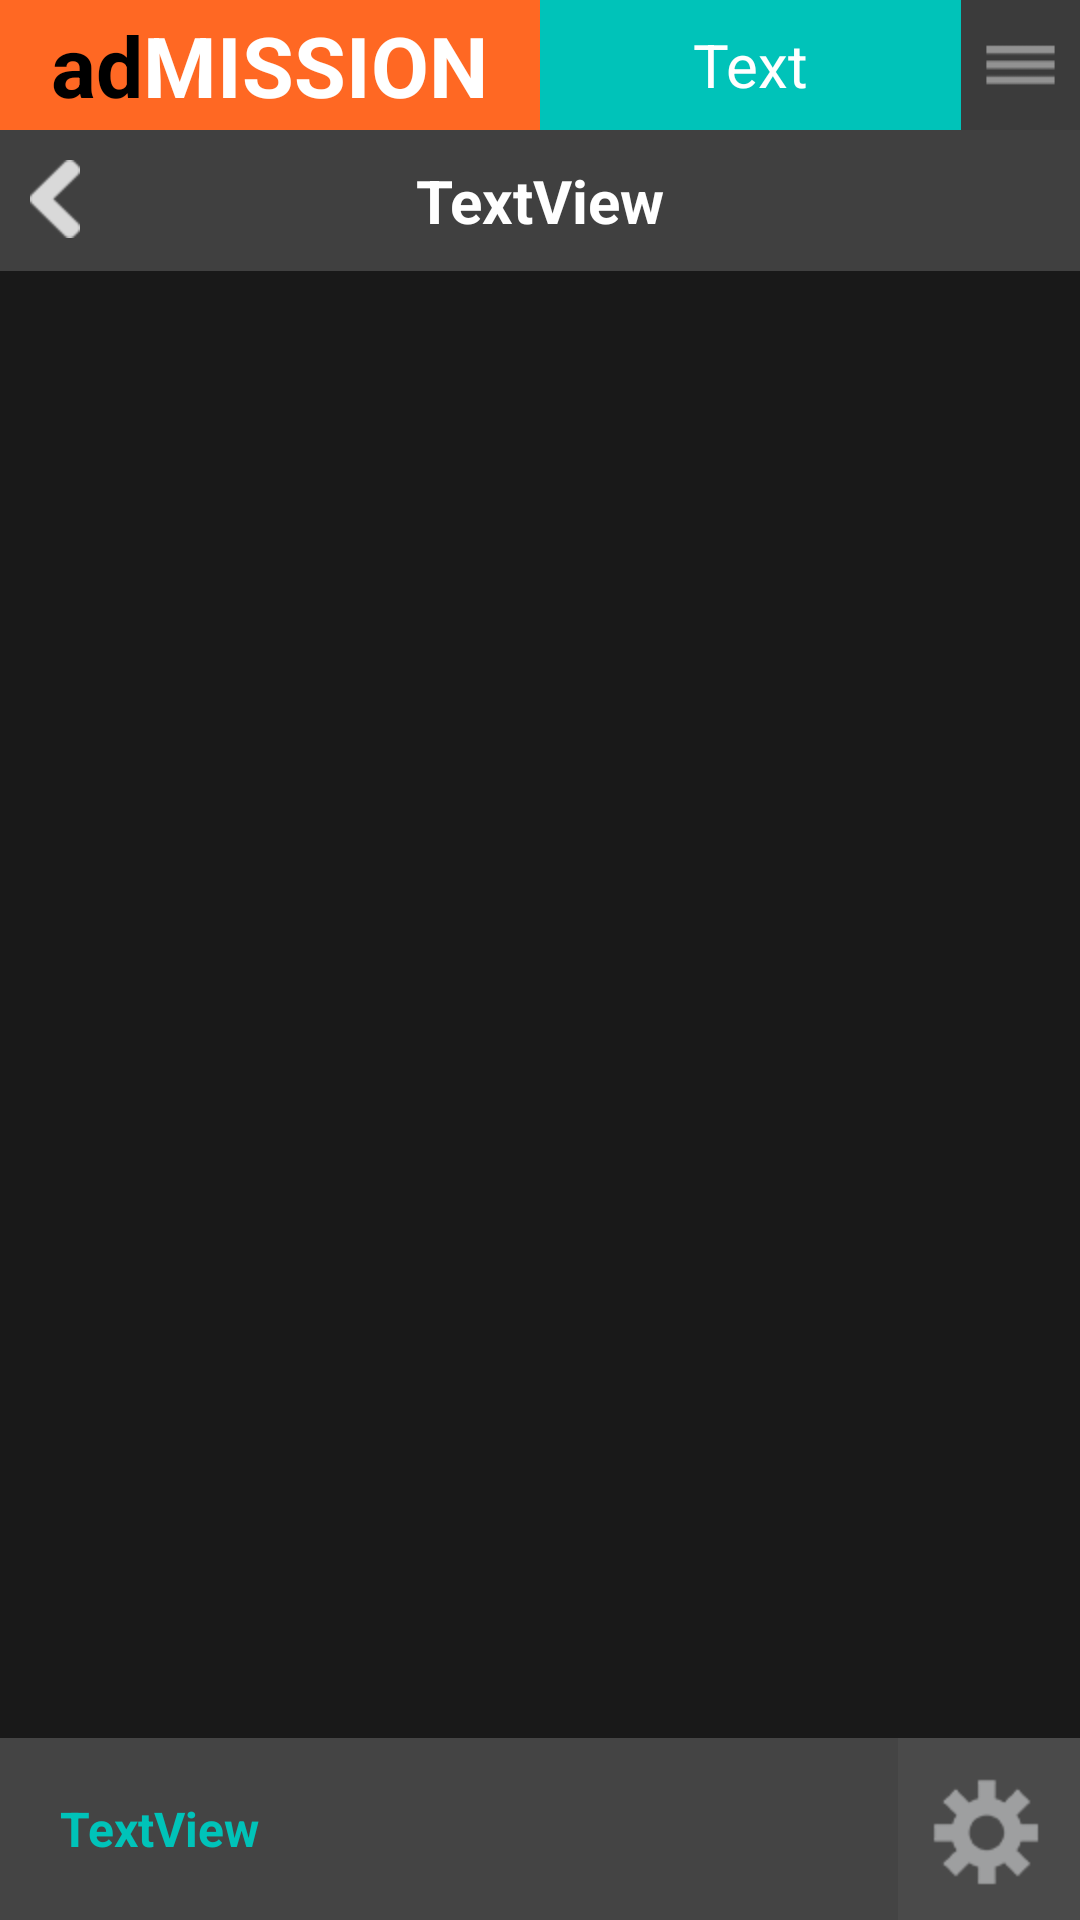

Icons on this 1080x1920 Android screen, each with the point to tap as [x,y]:
arrow: [55,199]
menu: [1020,64]
